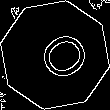O_SW: (22, 23, 88, 87)
